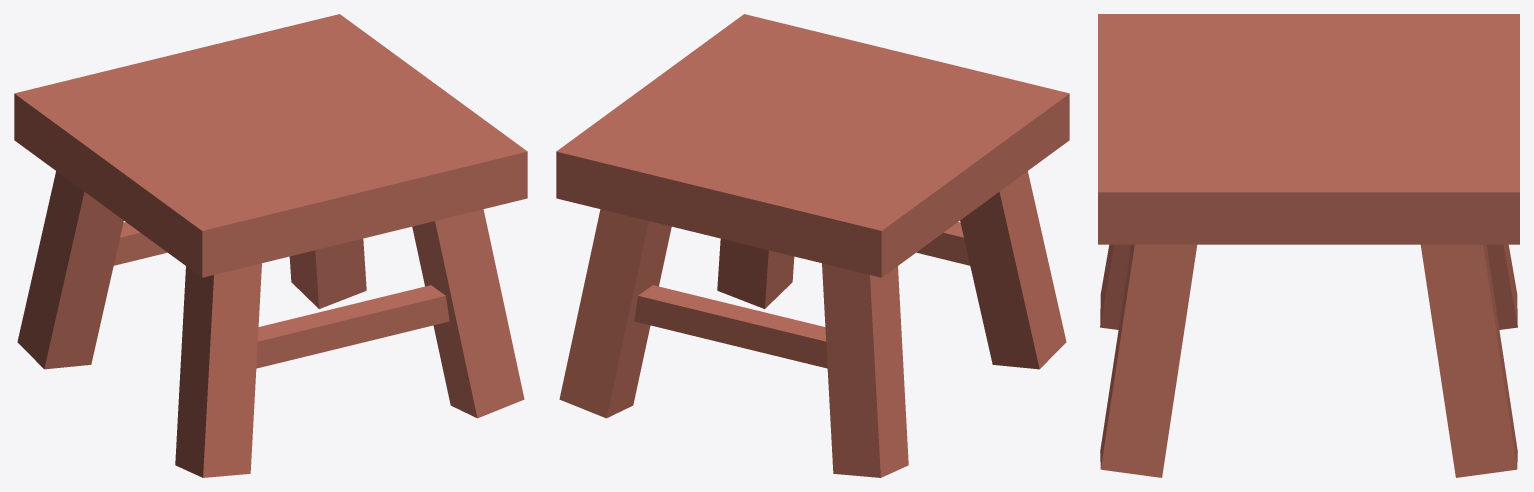
File: PlasticStoolLow.glb
3 views of the same model, side by side, from view 1: azimuth 30°, elevation 25°; view 2: azimuth 150°, elevation 25°; view 3: azimuth 270°, elevation 25° (orthographic). The views are drawn at different scales.
Visible parts, largest first — view 1: ST_PlasticStoolLow_ST_plastic_red.001; view 2: ST_PlasticStoolLow_ST_plastic_red.001; view 3: ST_PlasticStoolLow_ST_plastic_red.001.
Boxes of the visible parts, x1,y1,x2,y2 form: ST_PlasticStoolLow_ST_plastic_red.001: (14, 14, 527, 477); ST_PlasticStoolLow_ST_plastic_red.001: (556, 14, 1069, 477); ST_PlasticStoolLow_ST_plastic_red.001: (1098, 14, 1519, 477).
Bounding box in the file's own units: 0.32 × 0.2467 × 0.32.
